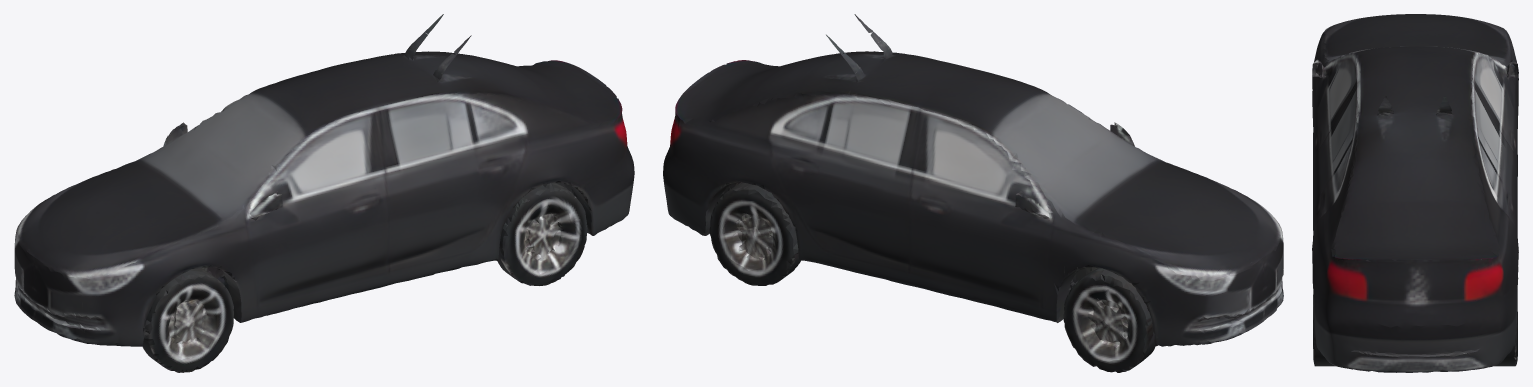
The model's file is car2.glb.
3 views of the same model, side by side, from view 1: azimuth 30°, elevation 25°; view 2: azimuth 150°, elevation 25°; view 3: azimuth 270°, elevation 25° (orthographic). The views are drawn at different scales.
Visible parts, largest first — view 1: Car2; view 2: Car2; view 3: Car2.
Boxes of the visible parts, x1,y1,x2,y2 form: Car2: [14, 14, 634, 372]; Car2: [663, 14, 1283, 372]; Car2: [1312, 14, 1518, 372].
Size of the model in its own units: 1.89 by 0.7381 by 0.5635.
1 material, 1 textured.
